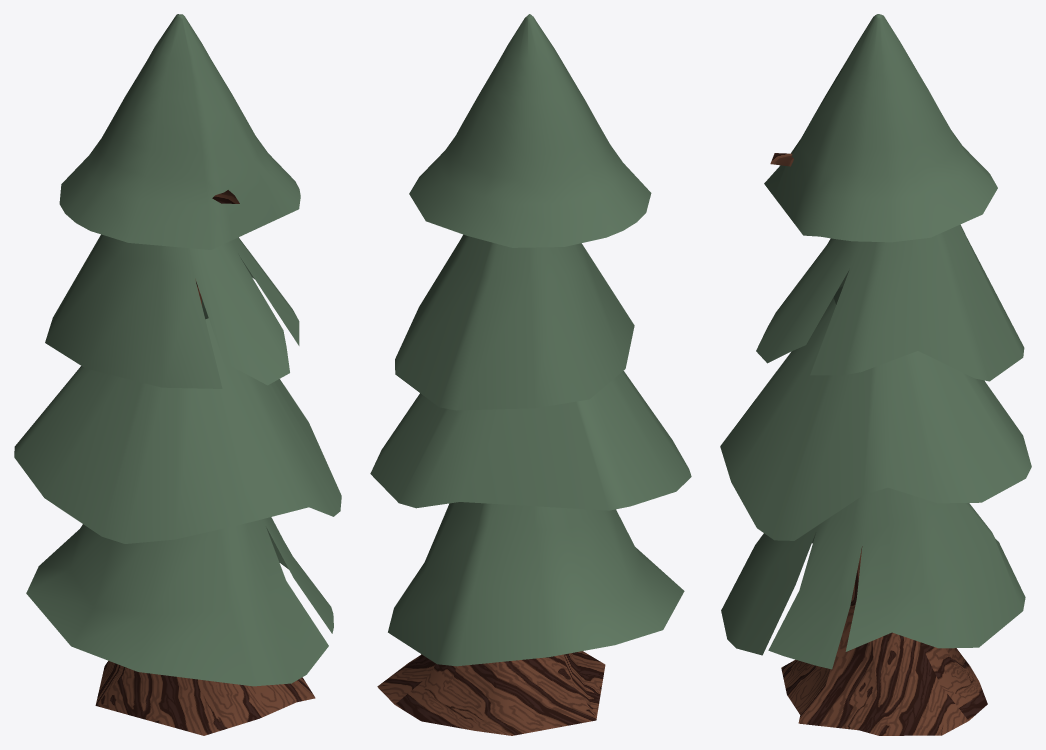
Rendered from Low tree 5.fbx.
3 views of the same model, side by side, from view 1: azimuth 30°, elevation 25°; view 2: azimuth 150°, elevation 25°; view 3: azimuth 270°, elevation 25° (orthographic). The views are drawn at different scales.
Parts seen in each view (by area): view 1: Pines_5; view 2: Pines_5; view 3: Pines_5.
Part boxes in pixels (left/top/right/bottom): Pines_5: left=14, top=14, right=341, bottom=735; Pines_5: left=370, top=14, right=691, bottom=735; Pines_5: left=720, top=14, right=1031, bottom=735.
Bounding box in the file's own units: 7.01 × 16.97 × 7.19.
